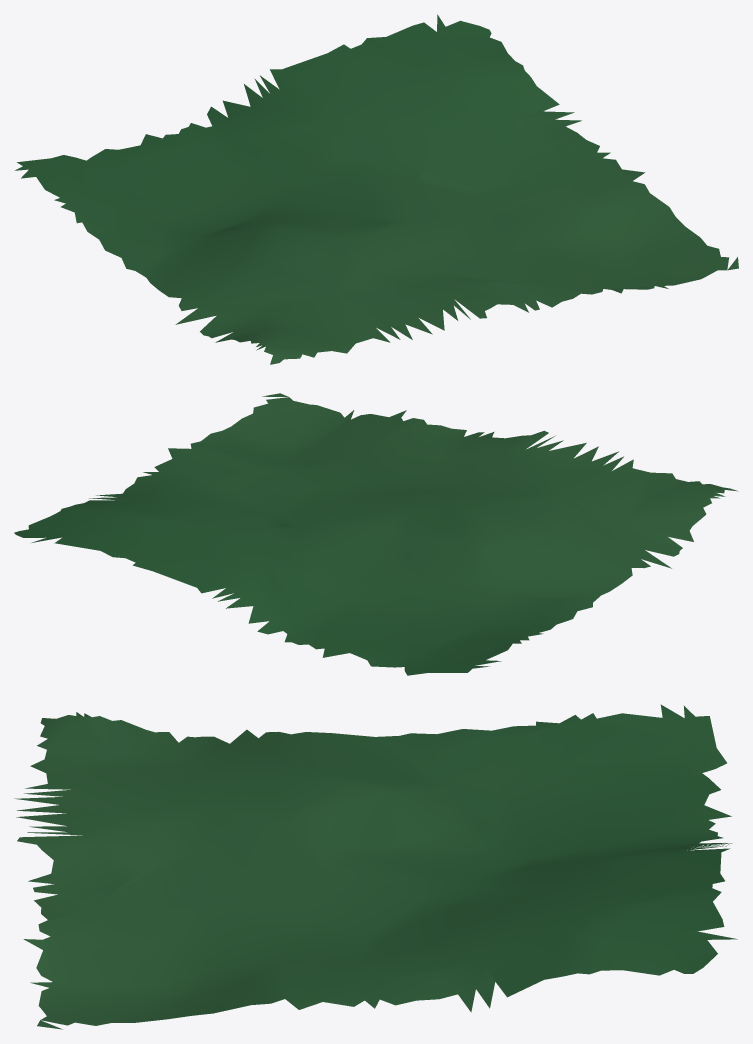
Rendered from payo_land_x3_y6_lod2.glb.
3 views of the same model, one above another, from view 1: azimuth 30°, elevation 25°; view 2: azimuth 150°, elevation 25°; view 3: azimuth 270°, elevation 25° (orthographic). The views are drawn at different scales.
Parts seen in each view (by area): view 1: payo_land_x3_y6; view 2: payo_land_x3_y6; view 3: payo_land_x3_y6.
Part boxes in pixels (<box>): payo_land_x3_y6: <box>14,14,738,364</box>; payo_land_x3_y6: <box>14,393,737,675</box>; payo_land_x3_y6: <box>14,704,737,1029</box>.
Size of the model in its own units: 275 by 34.48 by 275.
